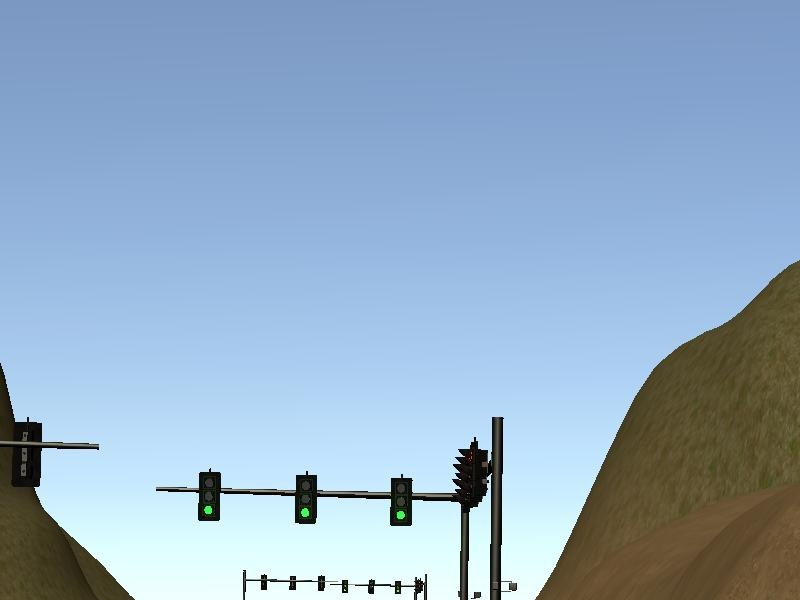traffic_light_green: (184, 471, 457, 527)
